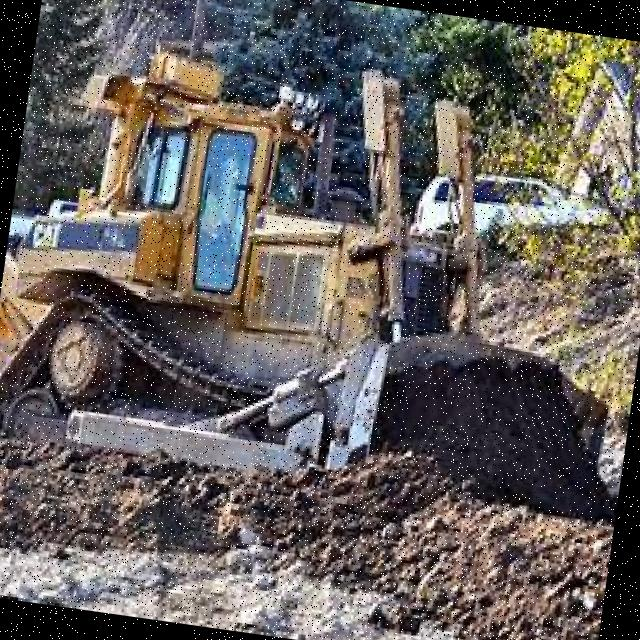Bulldozer: (0, 7, 640, 582)
